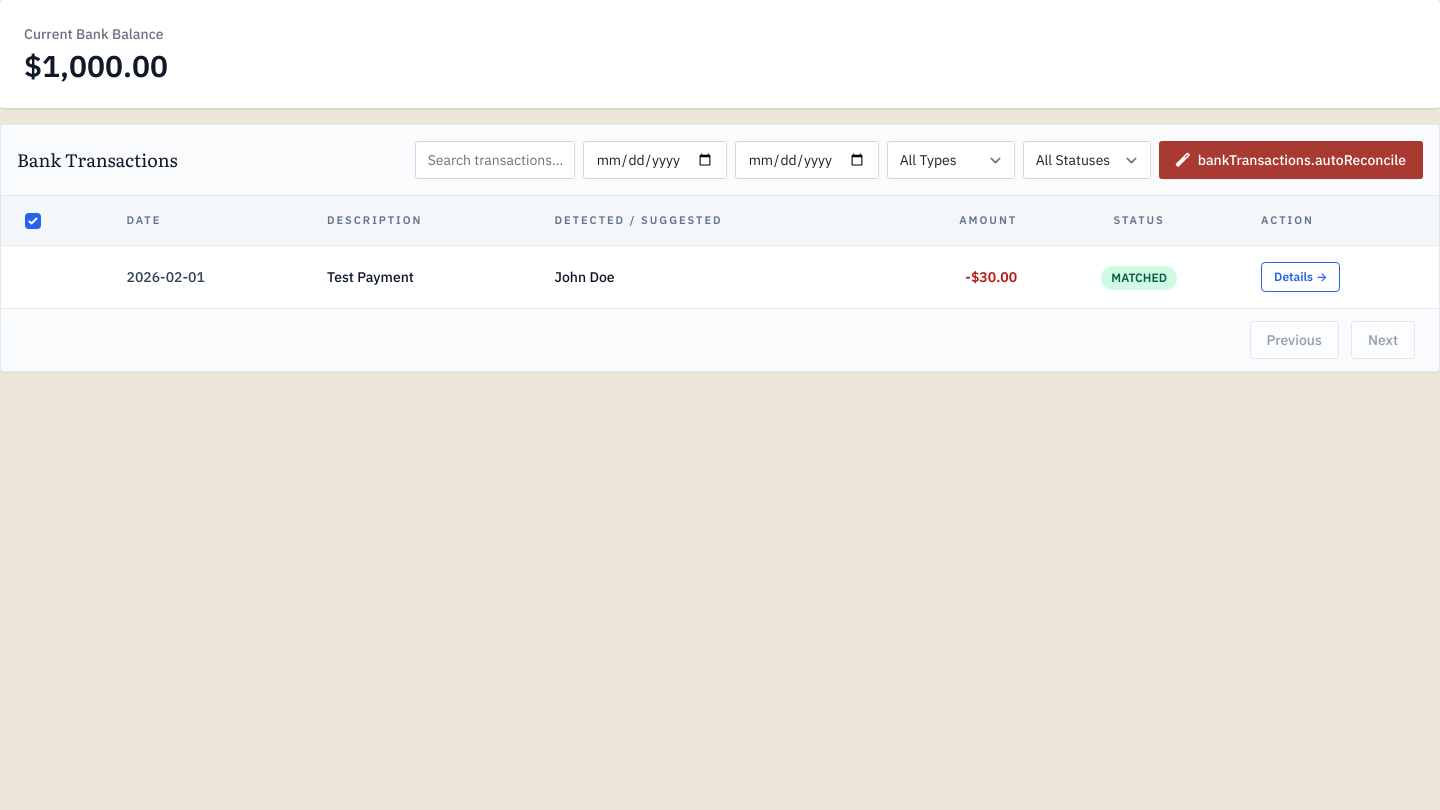
BankTransactionList › shows Expense Details when only a memo (no payee) was recorded
Expected: the text "Test Payment" is shown, [327,268,414,286]
Click the button "Details →". click: (1301, 277)
box: [1261,262,1340,292]
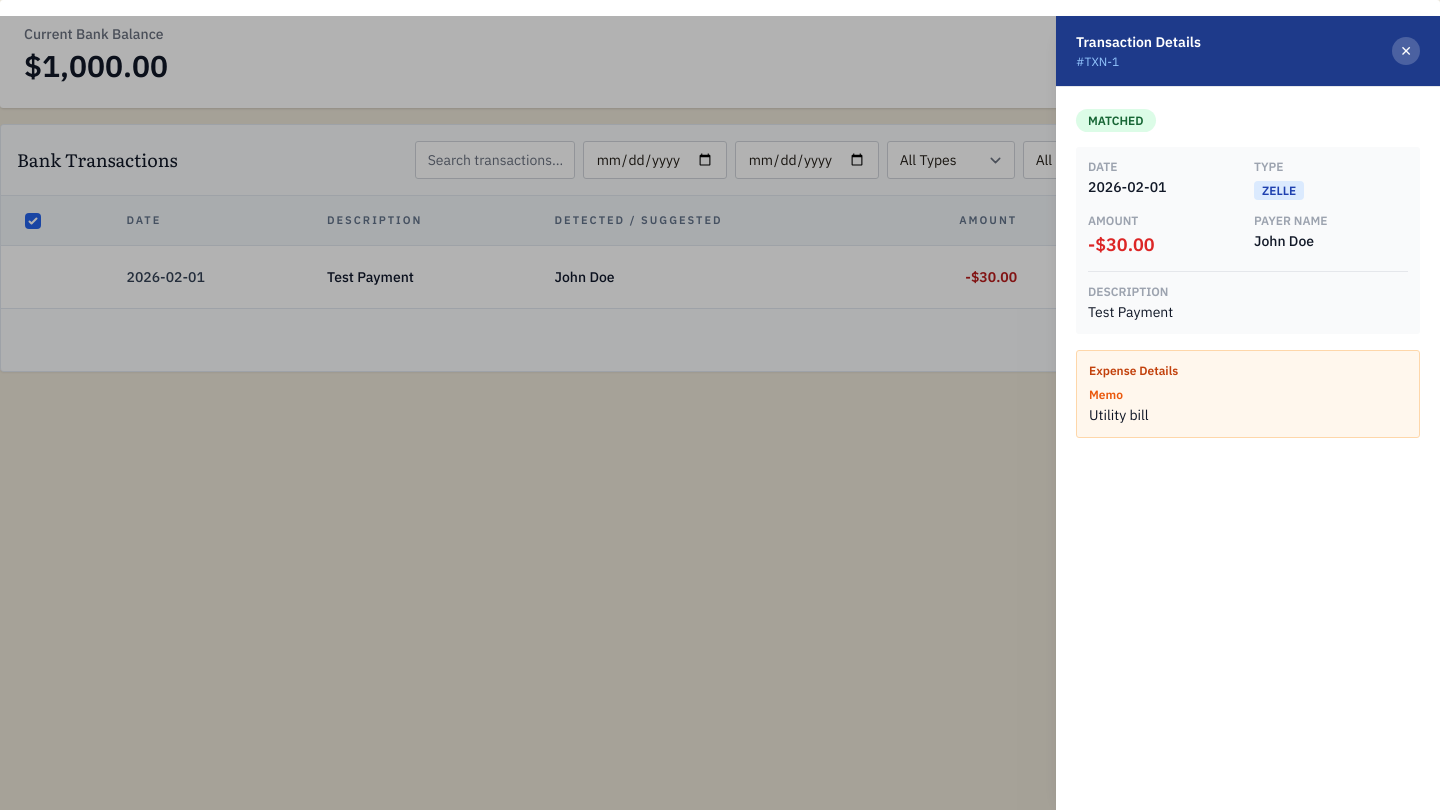
Now the text "Expense Details" is shown, box [1089,363,1178,378]
Now the text "Utility bill" is shown, box [1089,406,1149,424]
